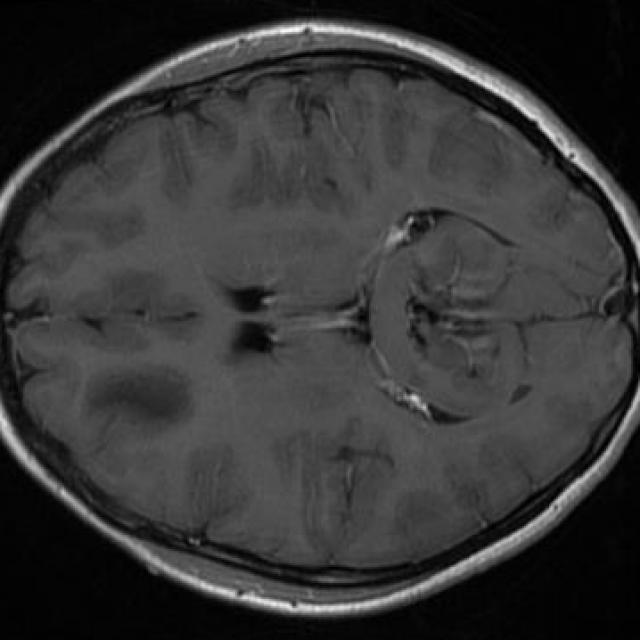glioma: (89, 365, 193, 423)
